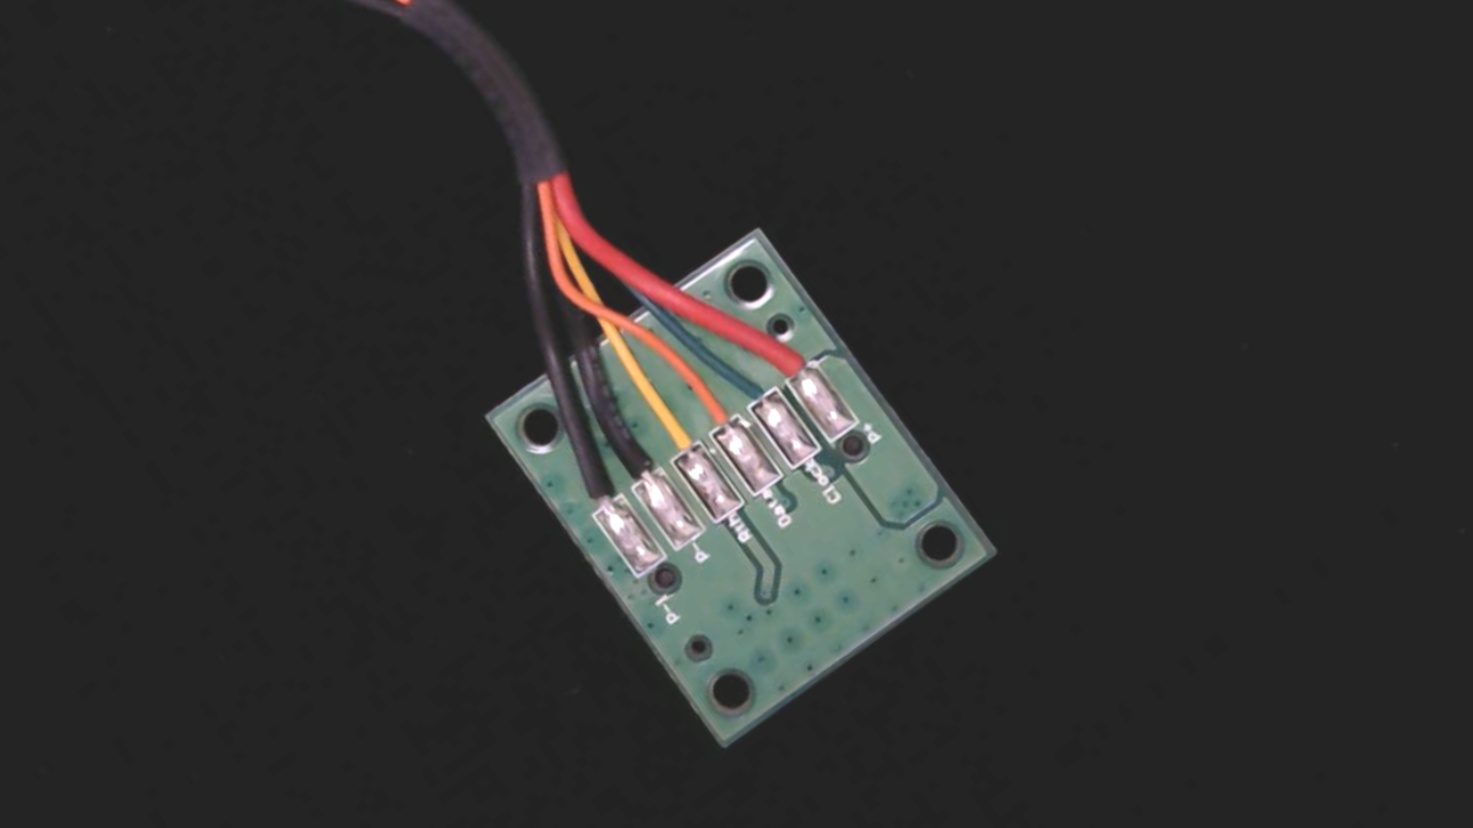Black: (590, 411, 677, 508)
Black1: (550, 446, 630, 536)
Green: (715, 345, 788, 425)
Orange: (667, 360, 751, 454)
Red: (747, 313, 827, 400)
Yellow: (628, 381, 716, 479)
